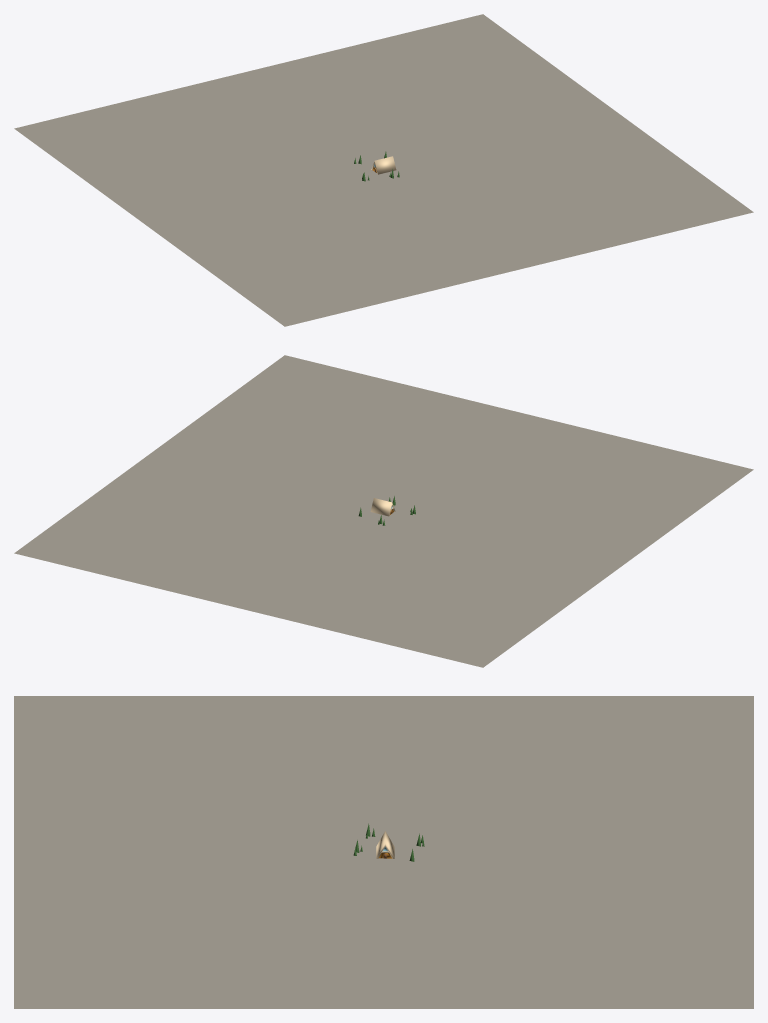
File: HouseLowPoly.obj
3 renders of one model, top to bottom at view 1: azimuth 30°, elevation 25°; view 2: azimuth 150°, elevation 25°; view 3: azimuth 270°, elevation 25°, orthographic. The views are drawn at different scales.
Visible parts, largest first — view 1: Object012; view 2: Object012; view 3: Object012.
Part boxes in pixels (x1,y1,x2,y2): Object012: [14, 14, 753, 326]; Object012: [14, 355, 753, 667]; Object012: [14, 696, 753, 1008].
Bounding box in the file's own units: 1000 × 23.65 × 1000.
Materials: 2 (2 with a texture image).
